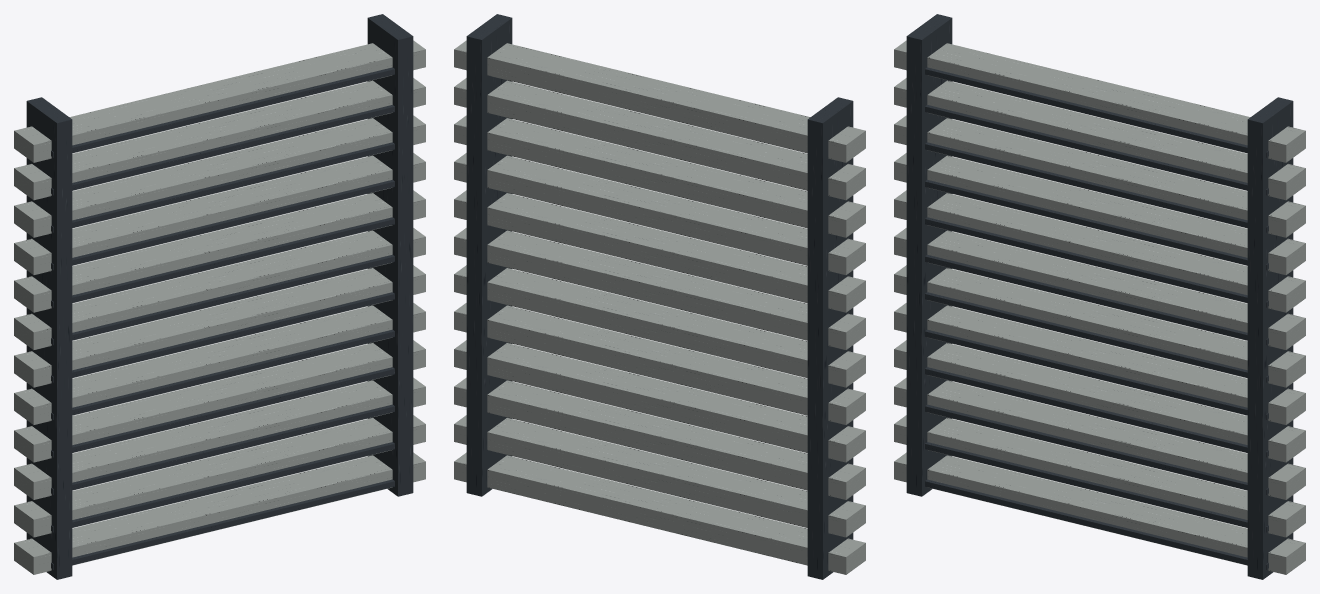
File: RadiatorBank.fbx
3 views of the same model, side by side, from view 1: azimuth 30°, elevation 25°; view 2: azimuth 150°, elevation 25°; view 3: azimuth 330°, elevation 25° (orthographic).
Parts seen in each view (by area): view 1: RadiatorBank; view 2: RadiatorBank; view 3: RadiatorBank.
Boxes of the visible parts, bbox=[...] form: RadiatorBank: bbox=[14, 14, 425, 579]; RadiatorBank: bbox=[454, 14, 865, 579]; RadiatorBank: bbox=[894, 14, 1305, 579].
Size of the model in its own units: 460 by 512 by 62.
